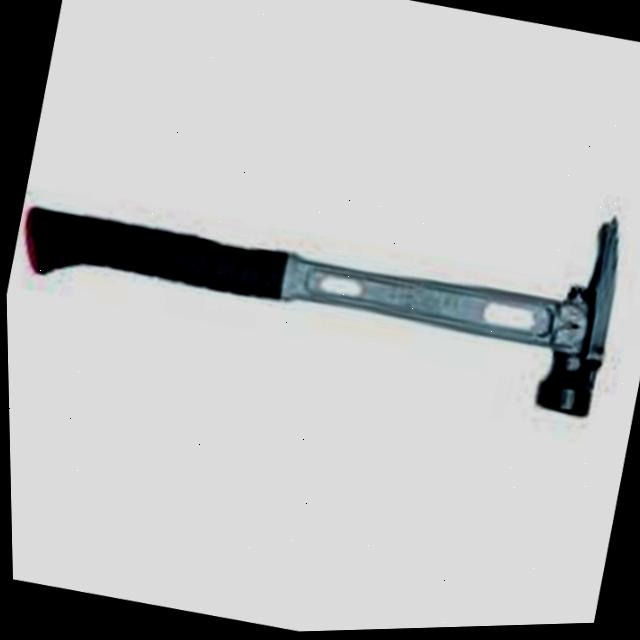hammer: (2, 87, 640, 474)
